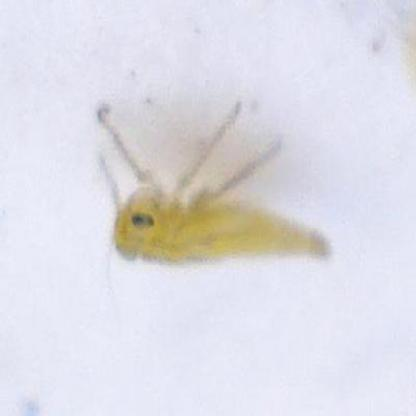green-leafhopper: (106, 162, 336, 272)
